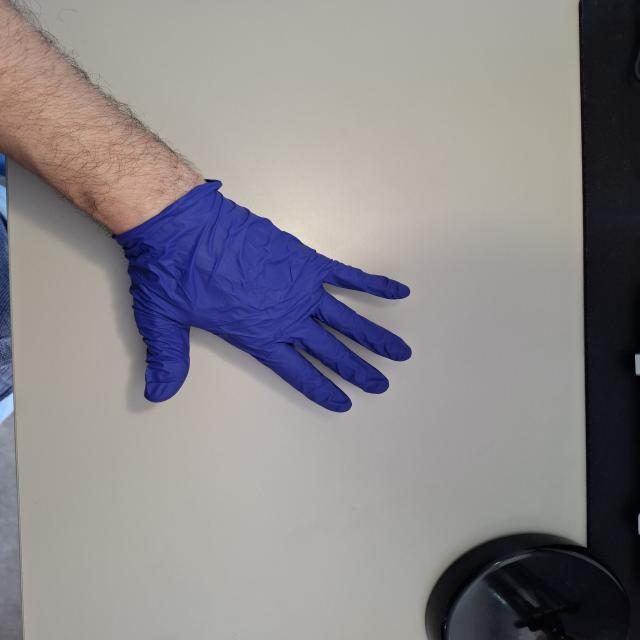glove_on: (110, 179, 420, 415)
